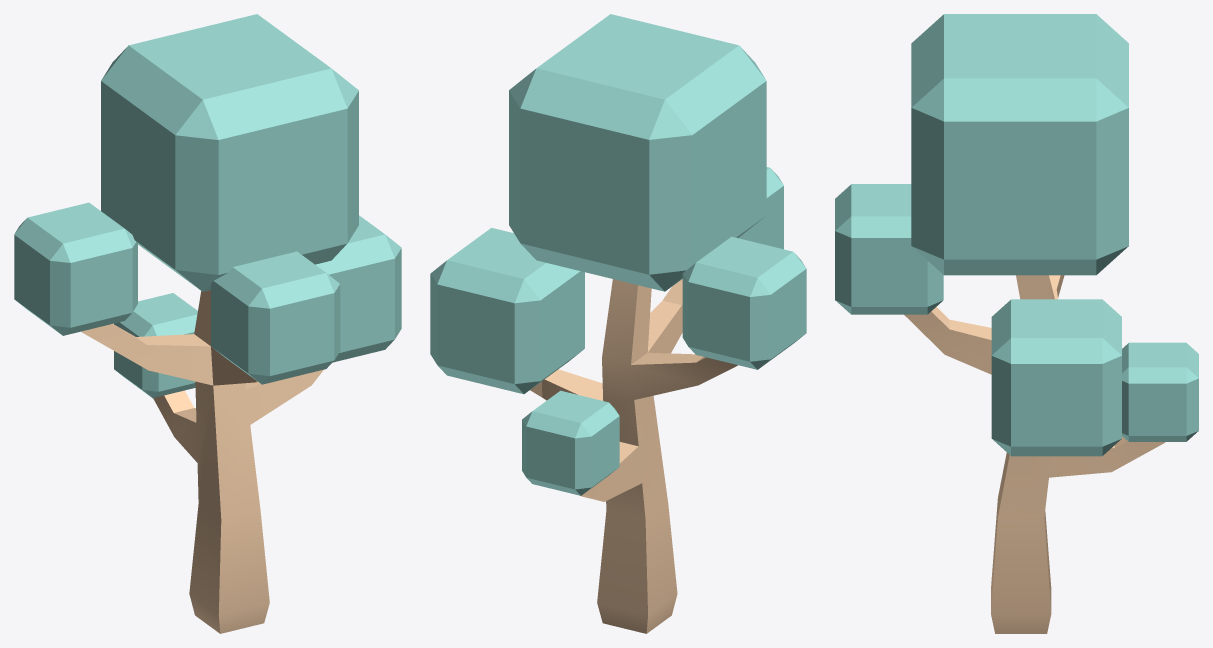
The model's file is tree_detailed.glb.
3 views of the same model, side by side, from view 1: azimuth 30°, elevation 25°; view 2: azimuth 150°, elevation 25°; view 3: azimuth 270°, elevation 25° (orthographic). The views are drawn at different scales.
Visible parts, largest first — view 1: tree_detailed; view 2: tree_detailed; view 3: tree_detailed.
Boxes of the visible parts, x1,y1,x2,y2 form: tree_detailed: (14, 14, 401, 633); tree_detailed: (430, 14, 806, 633); tree_detailed: (835, 14, 1198, 633).
Bounding box in the file's own units: 0.8471 × 1.33 × 0.7616.
